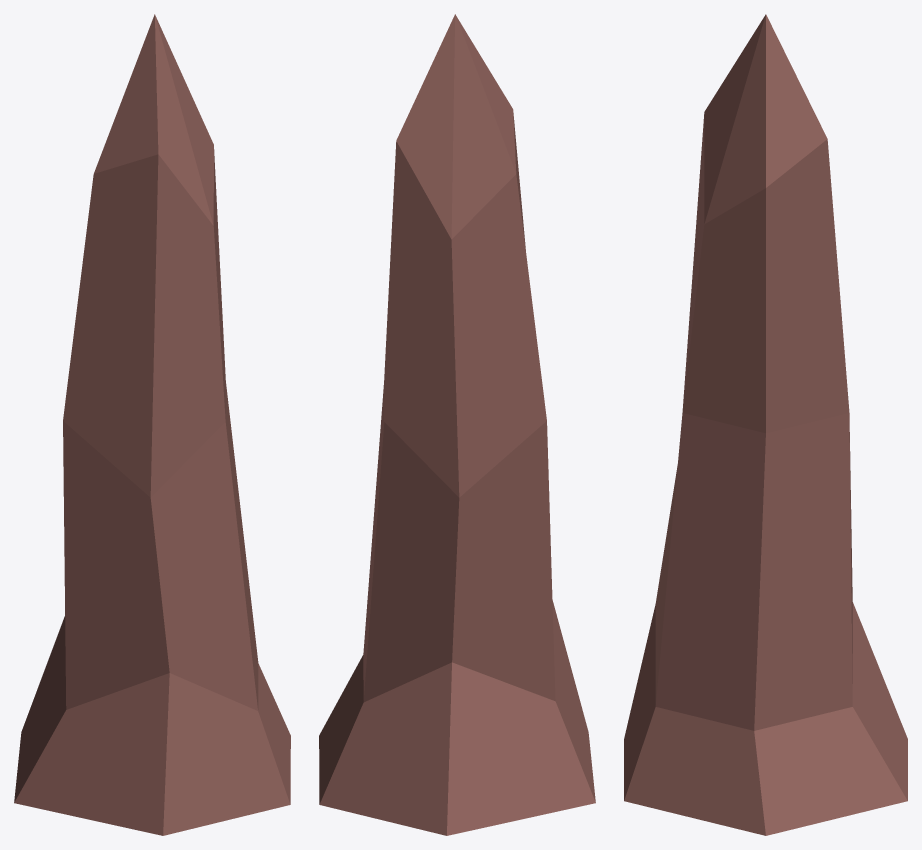
Rendered from Stalagmite-A04.fbx.
The picture shows the model from 3 angles, left to right: view 1: azimuth 30°, elevation 25°; view 2: azimuth 150°, elevation 25°; view 3: azimuth 270°, elevation 25°; orthographic projection.
Parts seen in each view (by area): view 1: Stalagmite-A04; view 2: Stalagmite-A04; view 3: Stalagmite-A04.
Boxes of the visible parts, x1,y1,x2,y2 form: Stalagmite-A04: (14,14,290,835); Stalagmite-A04: (319,14,595,835); Stalagmite-A04: (624,14,907,835).
Bounding box in the file's own units: 73.99 × 193 × 65.64.
